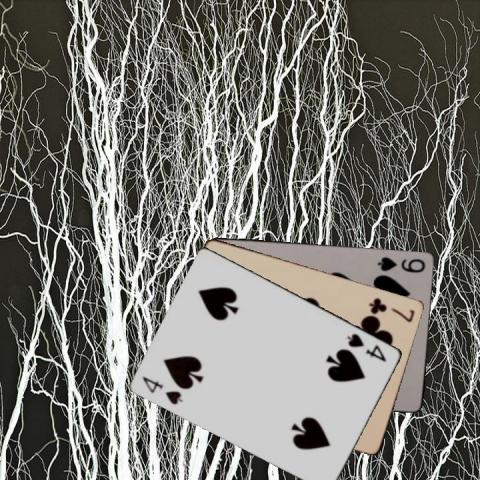4s: (140, 373, 186, 406), (344, 330, 389, 363)
7c: (366, 294, 417, 323)
9s: (376, 253, 428, 274)
